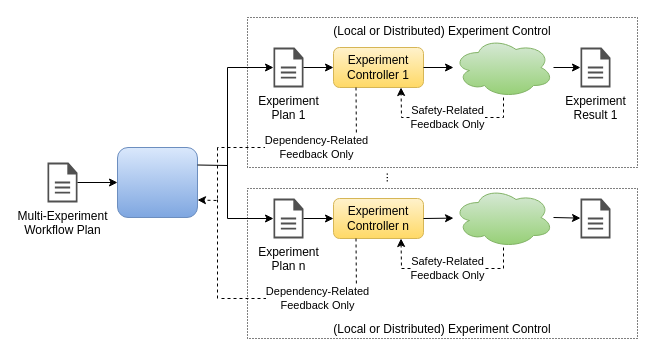
The diagram is 655 pixels wide and 356 high, and some of its shapes have lost their labels. Each missing label, with the centre of its shape:
Experiment Result n: the point at 595,218
Local Test 1: the point at 503,67
Multi- Experiment Workflow Controller: the point at 157,182
Remote Test n: the point at 503,217
